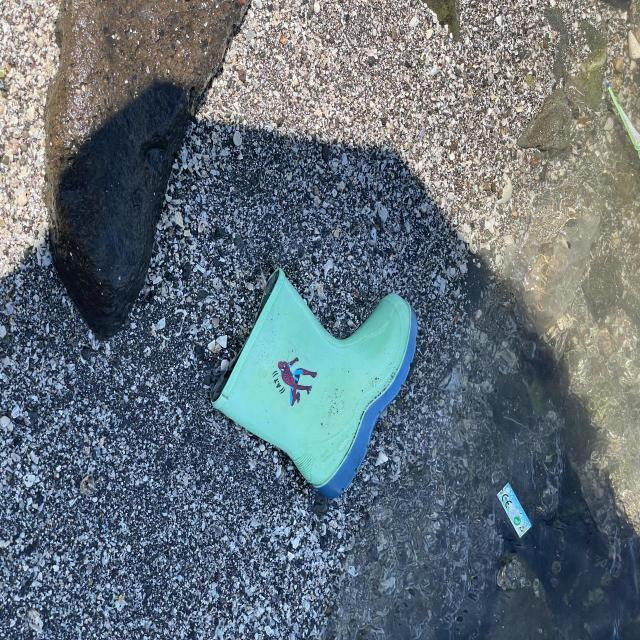plastic_waste: (607, 80, 640, 162)
rubber_waste: (210, 270, 416, 510)
